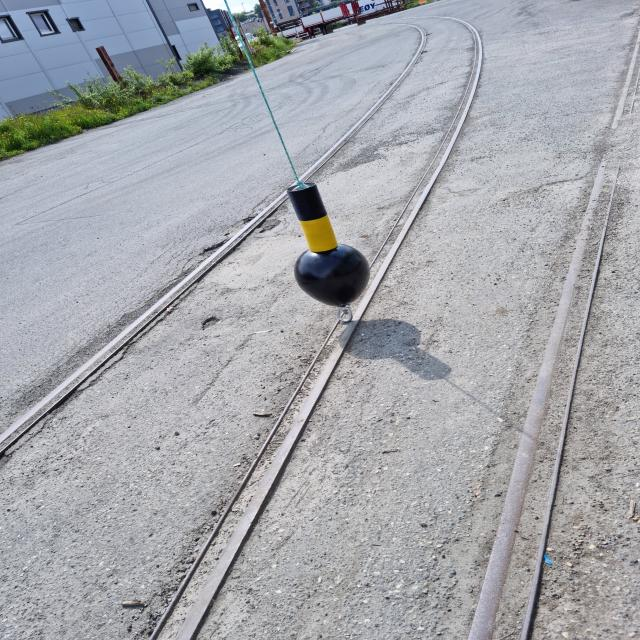east: (287, 182, 371, 308)
